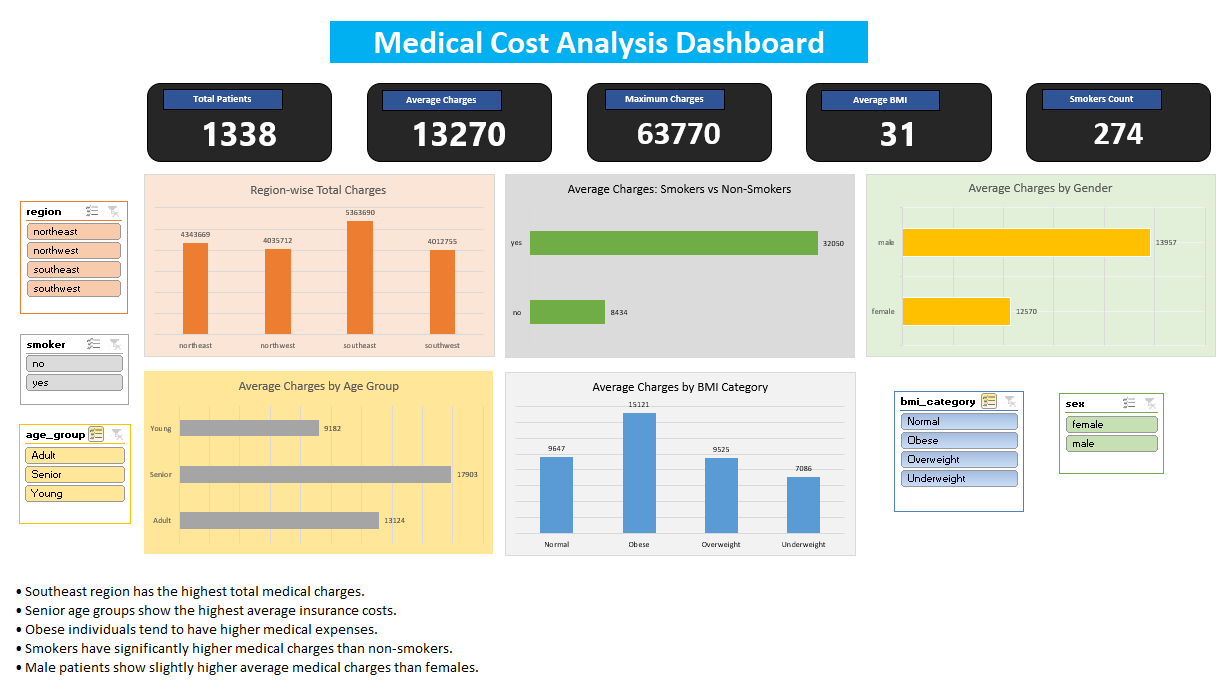

Layout of this report page (visuals, bound fields, positions):
{"tool":"powerbi","page":{"name":"Page 1","canvas":[1280,720],"ordinal":0},"visuals":[{"type":"image","box":[15,81.2,231.2,117.5],"z":0},{"type":"card","fields":{"Values":["Measure Table.Total Patients"]},"box":[266.6,102.5,165,96.4],"z":0,"group":"g3"},{"type":"shape","box":[260,104.1,189.4,95.9],"z":1000,"group":"g1"},{"type":"card","fields":{"Values":["Measure Table.Max Charges"]},"box":[1095.5,104.1,166.1,95.9],"z":1000,"group":"g3"},{"type":"columnChart","title":"Region-wise Total Charges","fields":{"Category":["Medical Cost Personal Datasets CSV.region"],"Y":["Measure Table.Total Charges"]},"box":[15,220,351.2,252.5],"z":1000},{"type":"card","fields":{"Values":["Measure Table.Average Charges"]},"box":[888.8,102.6,164.6,97.5],"z":2000,"group":"g3"},{"type":"donutChart","title":"Average Charges: Smoker vs Non-Smoker","fields":{"Category":["Medical Cost Personal Datasets CSV.smoker"],"Y":["Measure Table.Average Charges"]},"box":[15,486.2,351.2,225],"z":2000},{"type":"card","fields":{"Values":["Measure Table.Average BMI"]},"box":[682,102.7,164.6,95.9],"z":3000,"group":"g3"},{"type":"shape","box":[1081.2,104.1,189.4,95.9],"z":3000,"group":"g1"},{"type":"clusteredBarChart","title":"Average Charges by BMI Category","fields":{"Category":["Medical Cost Personal Datasets CSV.bmi_category"],"Y":["Measure Table.Average Charges"]},"box":[381.2,220,356.2,252.5],"z":3000},{"type":"card","fields":{"Values":["Measure Table.Total Charges"]},"box":[473.8,102.9,166.1,95.9],"z":4000,"group":"g3"},{"type":"shape","box":[875.9,104.1,189.4,95.9],"z":4000,"group":"g1"},{"type":"barChart","title":"Average Charges by Age Group","fields":{"Category":["Medical Cost Personal Datasets CSV.age_group"],"Y":["Measure Table.Average Charges"]},"box":[751.2,220,358.8,252.5],"z":4000},{"type":"group","id":"g1","title":"Group 1","box":[260,104.1,1010,96.1],"z":5000,"group":"g2"},{"type":"shape","box":[670.6,104.1,189.4,95.9],"z":5000,"group":"g1"},{"type":"pieChart","title":"Average Charges by Gender","fields":{"Category":["Medical Cost Personal Datasets CSV.sex"],"Y":["Measure Table.Average Charges"]},"box":[381.2,486.2,353.8,225],"z":5000},{"type":"group","id":"g2","title":"Group 3","box":[260,102.5,1010,97.5],"z":6000},{"type":"group","id":"g3","title":"Group 2","box":[266.6,102.5,994.9,97.5],"z":6000,"group":"g2"},{"type":"shape","box":[465.3,104.1,189.4,95.9],"z":6000,"group":"g1"},{"type":"textbox","box":[370,7.8,647.8,84.4],"z":7000},{"type":"slicer","fields":{"Values":["Medical Cost Personal Datasets CSV.region"]},"box":[1130,220,140,188.8],"z":8000},{"type":"textbox","box":[751.2,633.8,358.8,77.5],"z":9000},{"type":"slicer","fields":{"Values":["Medical Cost Personal Datasets CSV.sex"]},"box":[970,486.2,140,127.5],"z":10000},{"type":"slicer","fields":{"Values":["Medical Cost Personal Datasets CSV.smoker"]},"box":[751.2,486.2,137.5,127.5],"z":11000},{"type":"slicer","fields":{"Values":["Medical Cost Personal Datasets CSV.bmi_category"]},"box":[1130,433.8,140,98.8],"z":12000},{"type":"slicer","fields":{"Values":["Medical Cost Personal Datasets CSV.age_group"]},"box":[1130,555,140,157.5],"z":13000}]}

Visuals, with their boxes in screenshot pixels (x1, y1, x2, y2), scaled from the page's 1280x720 canvas onto the 1230x694 screenshot:
image: box(14, 78, 237, 192)
card - Measure Table.Total Patients: box(256, 99, 415, 192)
shape: box(250, 100, 432, 193)
card - Measure Table.Max Charges: box(1053, 100, 1212, 193)
"Region-wise Total Charges" columnChart: box(14, 212, 352, 455)
card - Measure Table.Average Charges: box(854, 99, 1012, 193)
"Average Charges: Smoker vs Non-Smoker" donutChart: box(14, 469, 352, 686)
card - Measure Table.Average BMI: box(655, 99, 814, 191)
shape: box(1039, 100, 1221, 193)
"Average Charges by BMI Category" clusteredBarChart: box(366, 212, 709, 455)
card - Measure Table.Total Charges: box(455, 99, 615, 192)
shape: box(842, 100, 1024, 193)
"Average Charges by Age Group" barChart: box(722, 212, 1067, 455)
"Group 1" group: box(250, 100, 1220, 193)
shape: box(644, 100, 826, 193)
"Average Charges by Gender" pieChart: box(366, 469, 706, 686)
"Group 3" group: box(250, 99, 1220, 193)
"Group 2" group: box(256, 99, 1212, 193)
shape: box(447, 100, 629, 193)
textbox: box(356, 8, 978, 89)
slicer - Medical Cost Personal Datasets CSV.region: box(1086, 212, 1220, 394)
textbox: box(722, 611, 1067, 686)
slicer - Medical Cost Personal Datasets CSV.sex: box(932, 469, 1067, 592)
slicer - Medical Cost Personal Datasets CSV.smoker: box(722, 469, 854, 592)
slicer - Medical Cost Personal Datasets CSV.bmi_category: box(1086, 418, 1220, 513)
slicer - Medical Cost Personal Datasets CSV.age_group: box(1086, 535, 1220, 687)
